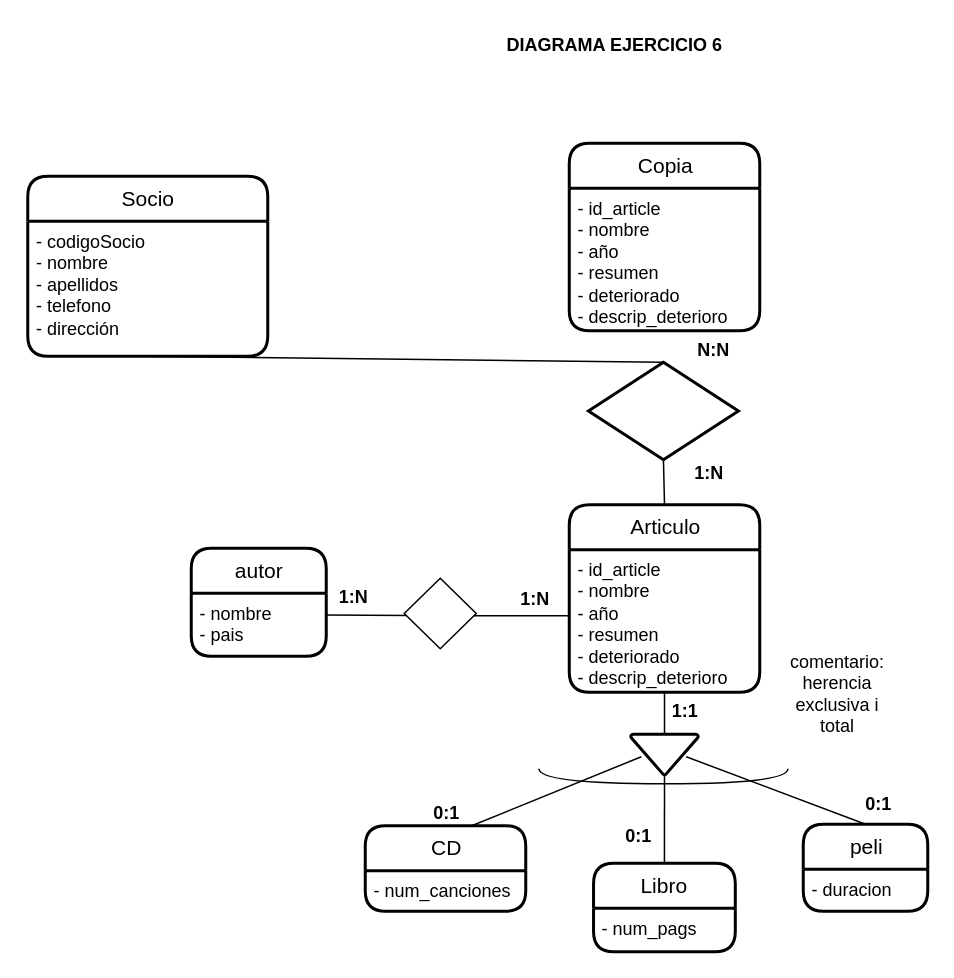
The diagram is 954 pixels wide and 978 high, and some of its shapes have lost their labels. Each missing label, with the centre of its shape:
"crea" belongs at point 439,613.
"PRESTAR" belongs at point 662,410.
